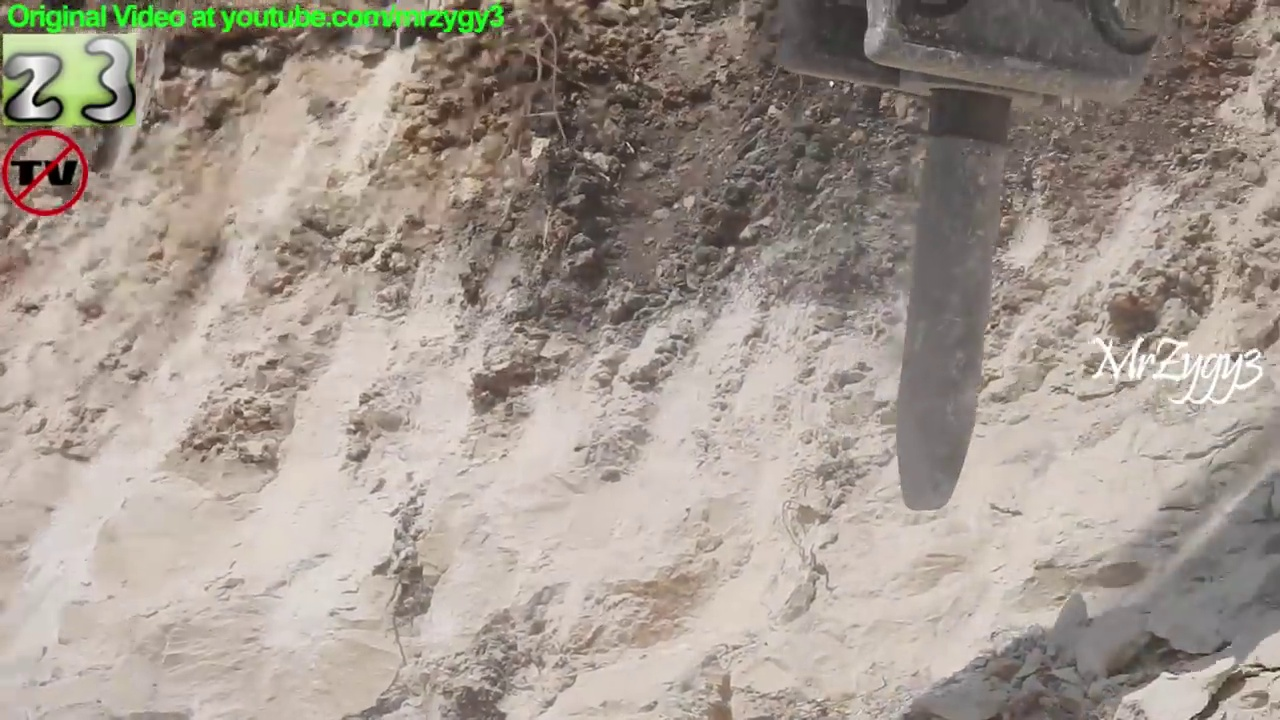excavator: (761, 1, 1186, 521)
